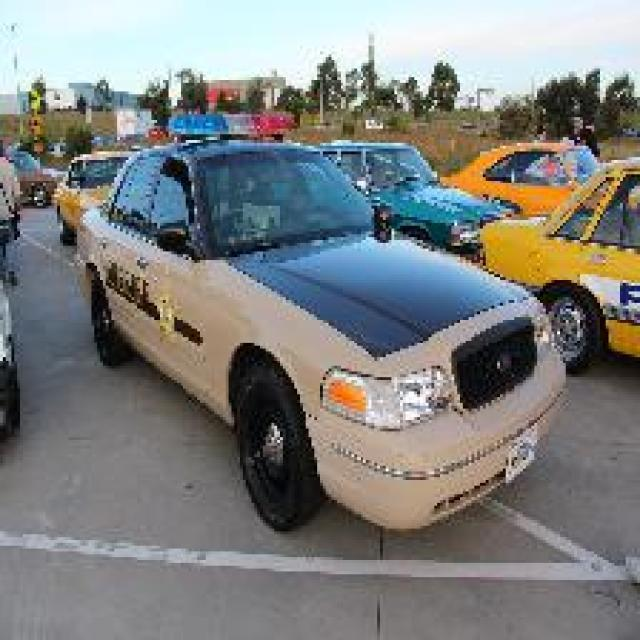emergency: (71, 118, 571, 534)
